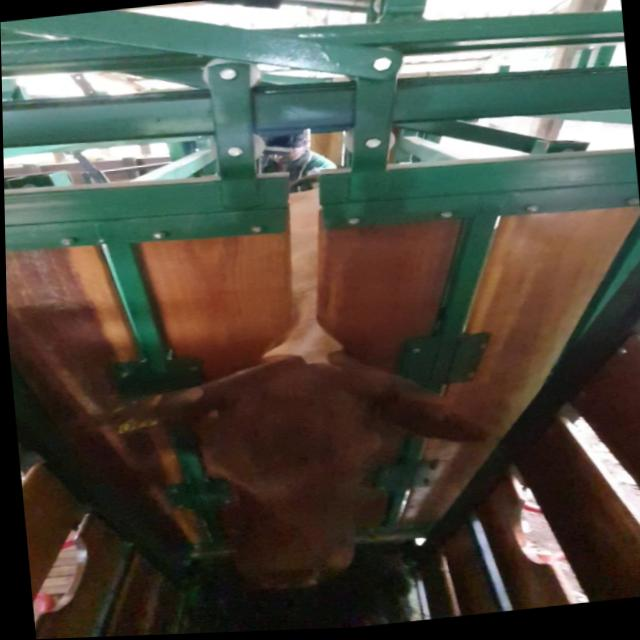cowFace: (196, 361, 392, 598)
